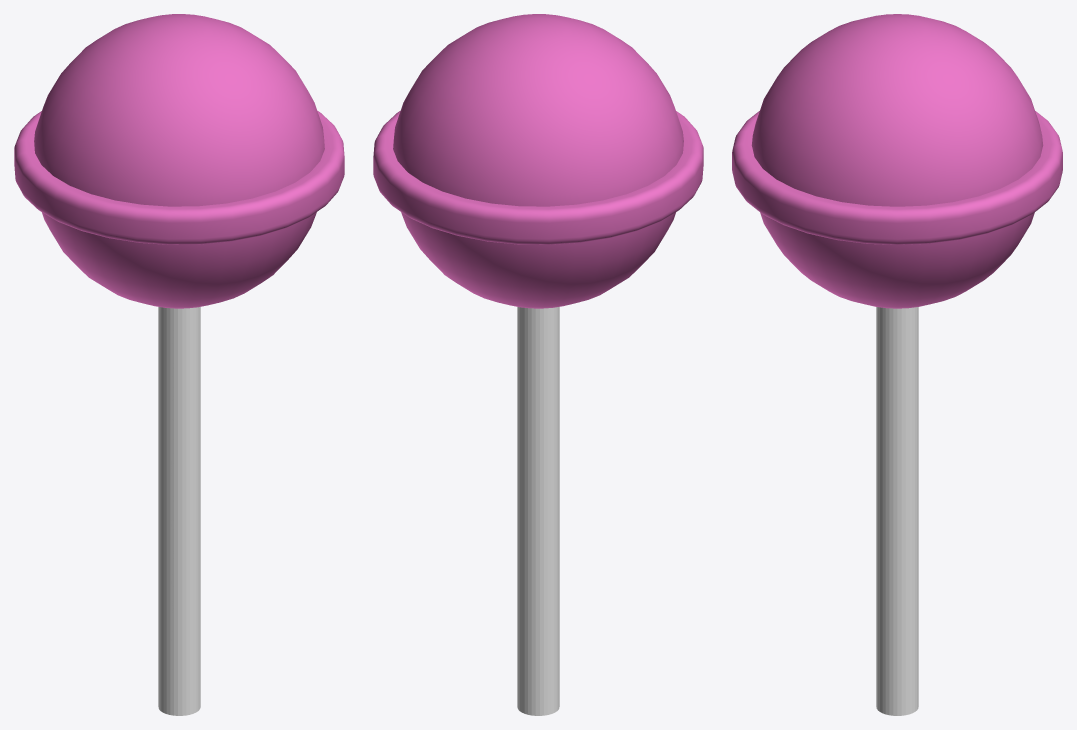
File: lollipop.fbx
3 renders of one model, left to right at view 1: azimuth 30°, elevation 25°; view 2: azimuth 150°, elevation 25°; view 3: azimuth 270°, elevation 25°, orthographic.
Parts seen in each view (by area): view 1: Sphere, Cylinder; view 2: Sphere, Cylinder; view 3: Sphere, Cylinder.
Part boxes in pixels (left/top/right/bottom): Sphere: left=14, top=14, right=344, bottom=308; Cylinder: left=158, top=307, right=200, bottom=715; Sphere: left=373, top=14, right=703, bottom=308; Cylinder: left=517, top=307, right=559, bottom=715; Sphere: left=732, top=14, right=1062, bottom=308; Cylinder: left=876, top=307, right=918, bottom=715.
Bounding box in the file's own units: 639 × 1448 × 639.
